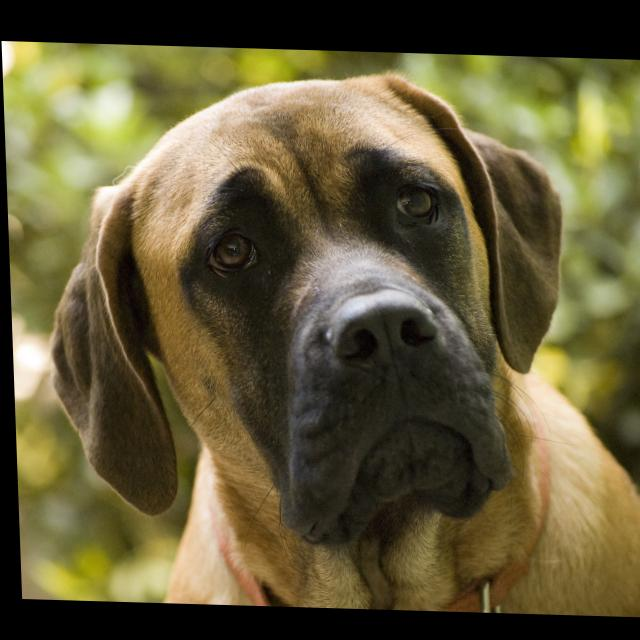mastiff: (39, 59, 640, 614)
